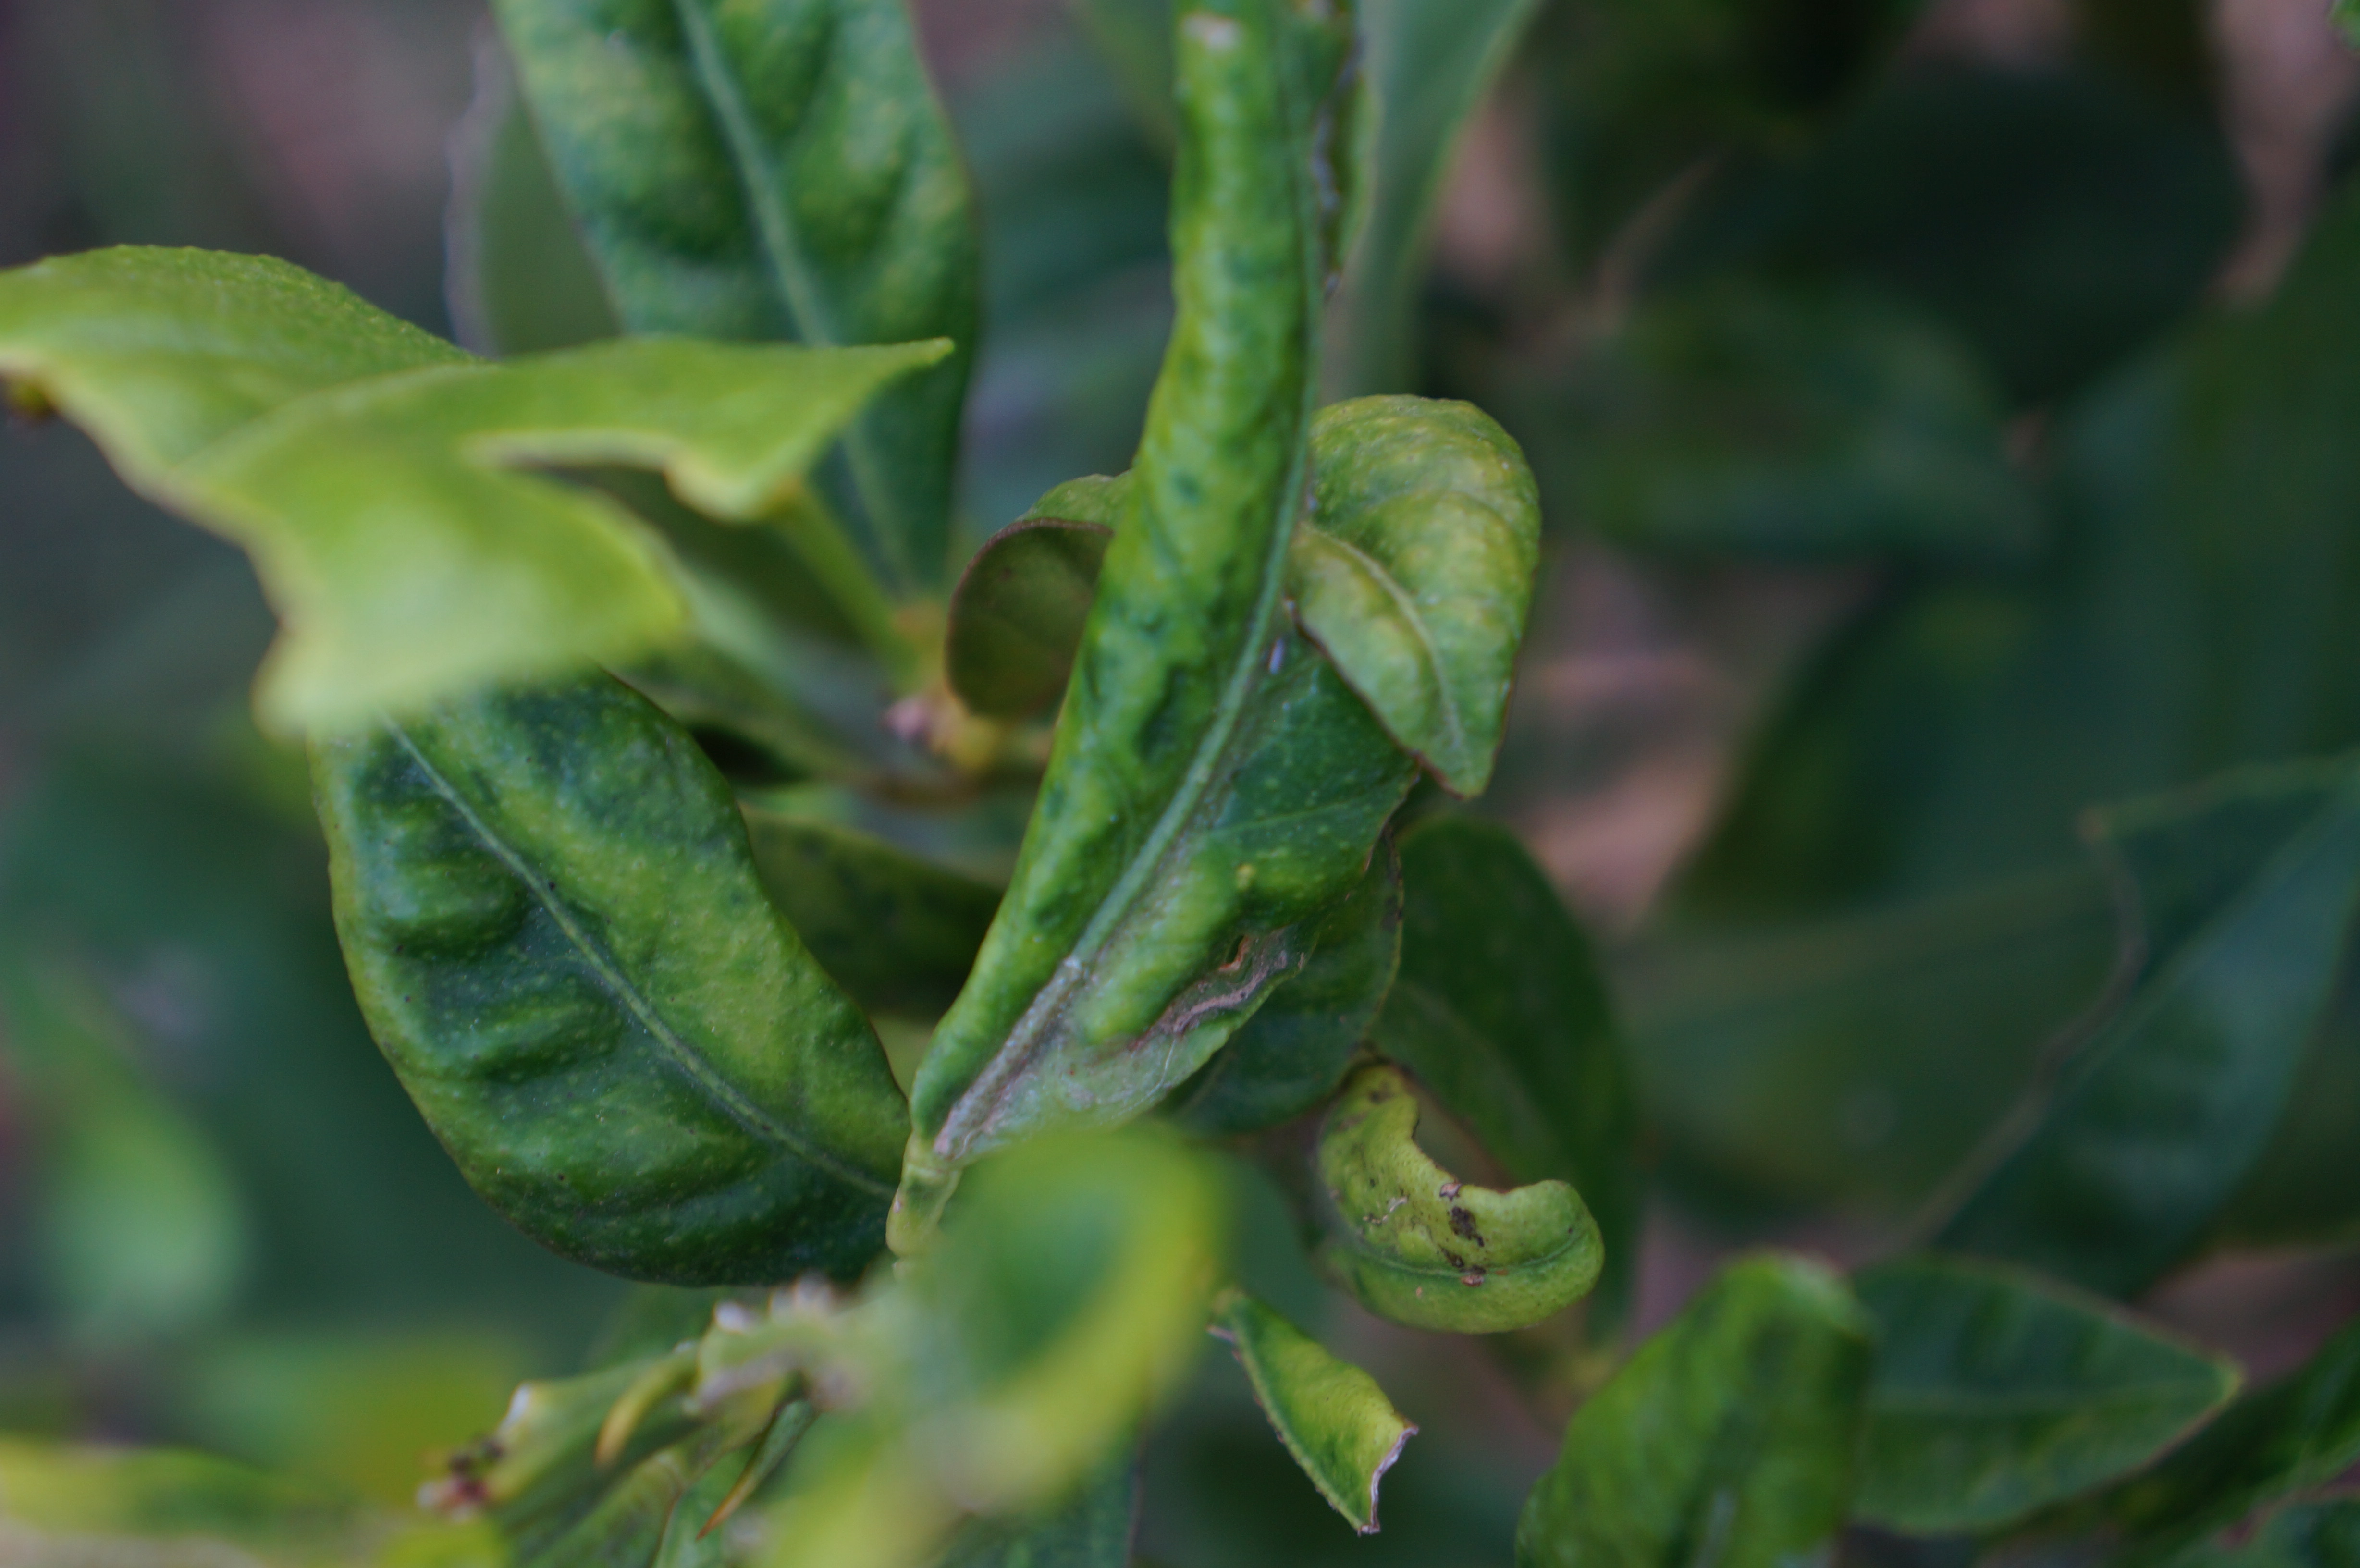curly: (862, 0, 1464, 1288)
damage: (941, 922, 1310, 1172)
